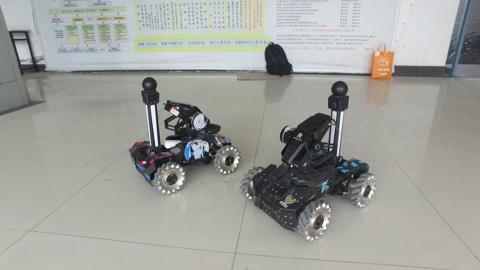chariot: (241, 81, 376, 252), (119, 74, 240, 197)
